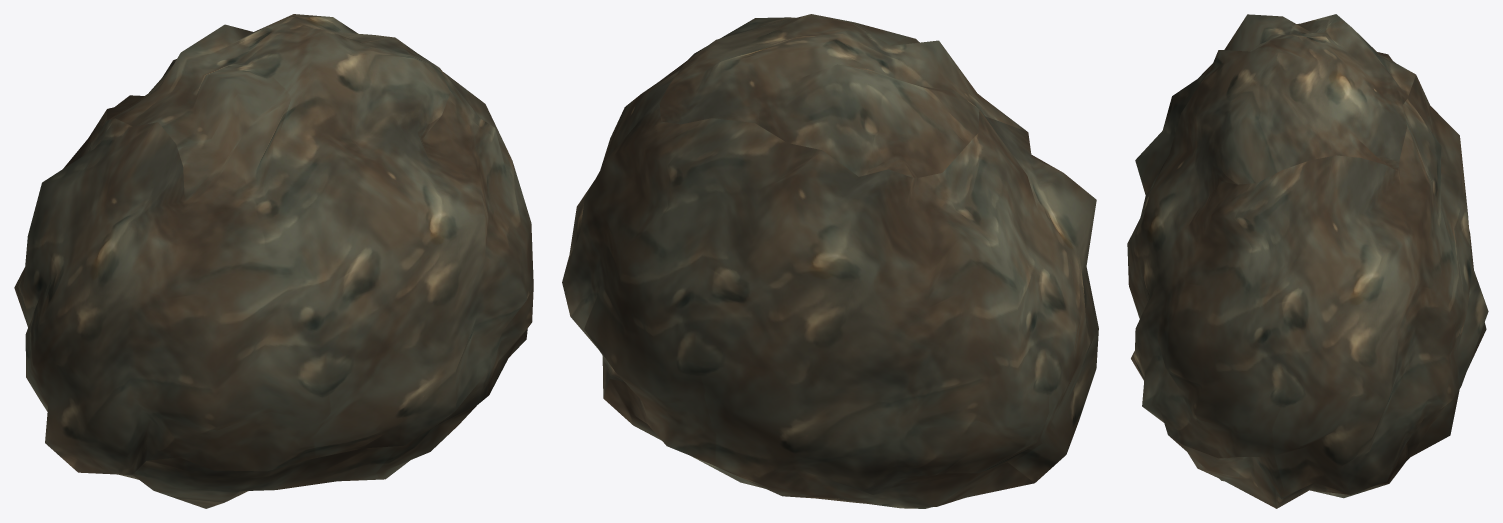
Rendered from rock_03.FBX.
3 renders of one model, left to right at view 1: azimuth 30°, elevation 25°; view 2: azimuth 150°, elevation 25°; view 3: azimuth 270°, elevation 25°, orthographic. The views are drawn at different scales.
Parts seen in each view (by area): view 1: Box002; view 2: Box002; view 3: Box002.
Boxes of the visible parts, x1,y1,x2,y2 form: Box002: (14, 14, 533, 508); Box002: (562, 14, 1098, 508); Box002: (1127, 14, 1488, 508).
Size of the model in its own units: 36.27 by 31.95 by 24.64.
